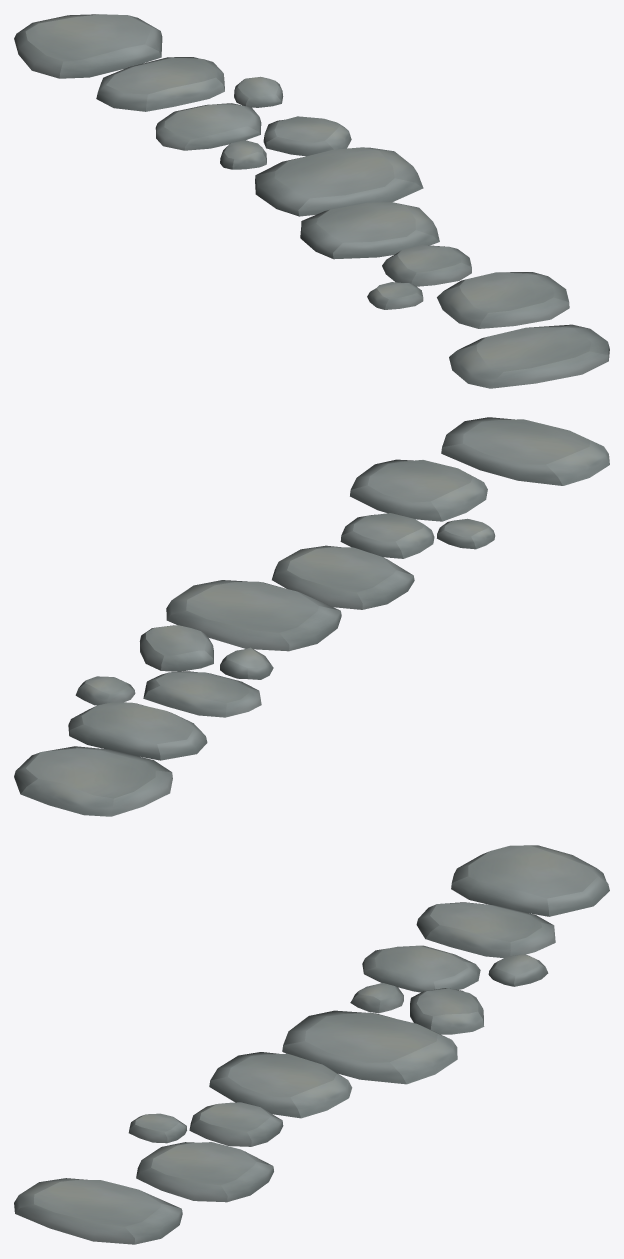
Rendered from Bridge.FBX.
3 renders of one model, top to bottom at view 1: azimuth 30°, elevation 25°; view 2: azimuth 150°, elevation 25°; view 3: azimuth 330°, elevation 25°, orthographic. The views are drawn at different scales.
Visible parts, largest first — view 1: Object001; view 2: Object001; view 3: Object001.
Boxes of the visible parts, x1=… form: Object001: x1=14, y1=14, x2=609, y2=388; Object001: x1=14, y1=417, x2=609, y2=816; Object001: x1=14, y1=845, x2=609, y2=1244.
Bounding box in the file's own units: 9.86 × 0.924 × 45.26.
